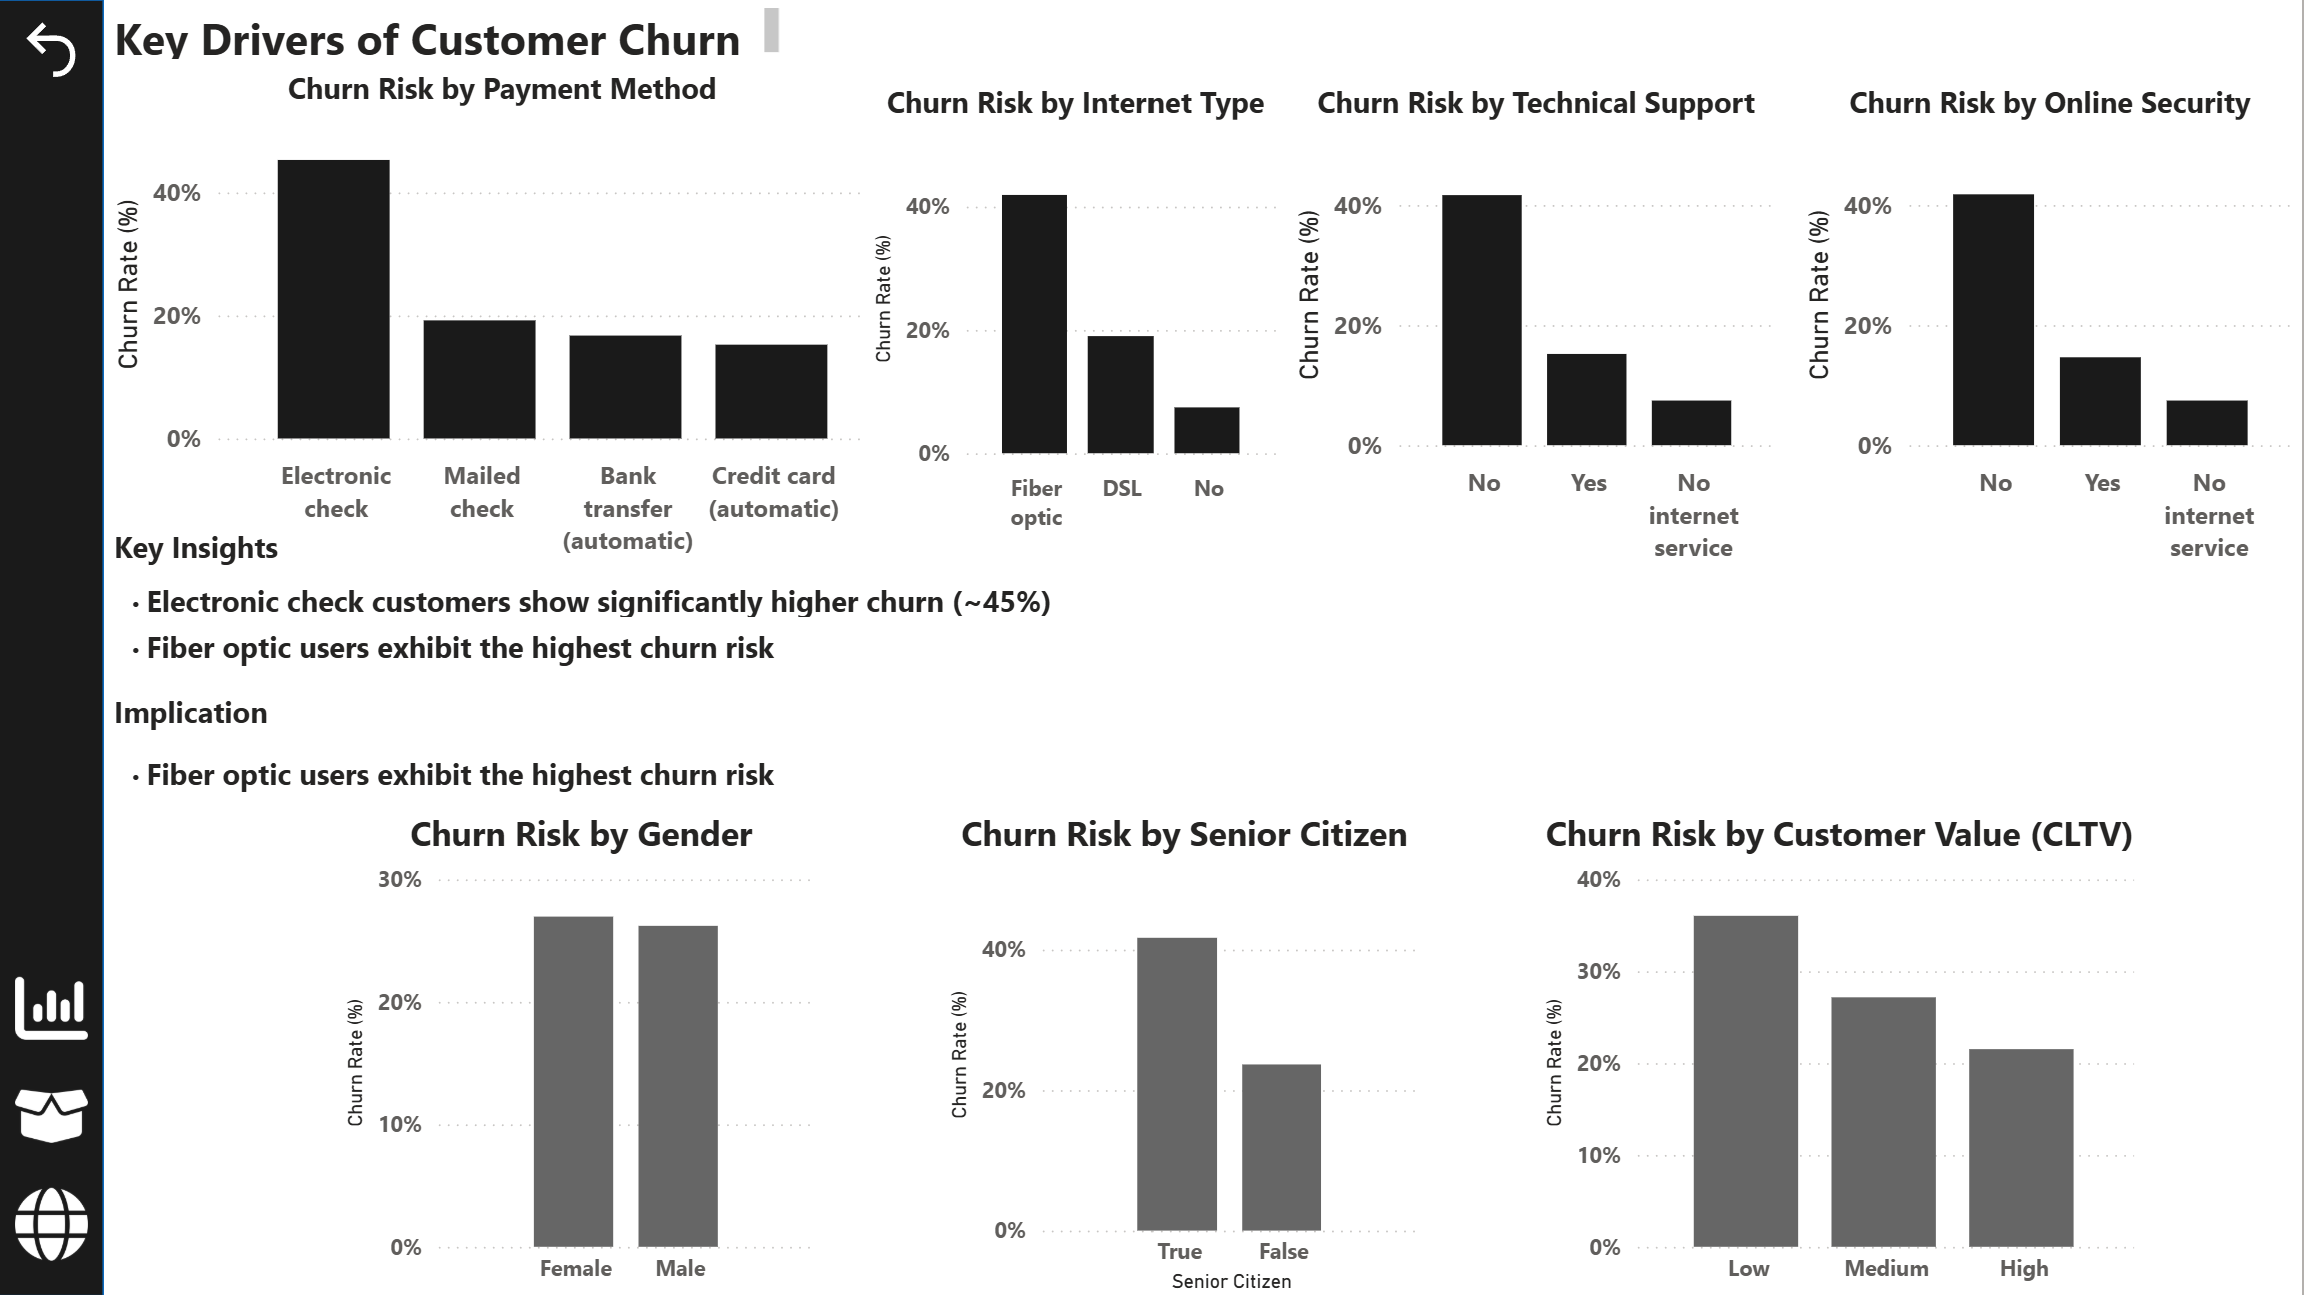

Layout of this report page (visuals, bound fields, positions):
{"tool":"powerbi","page":{"name":"Churn drivers","canvas":[1280,720],"ordinal":1},"visuals":[{"type":"shape","box":[0,0,60.6,719.8],"z":0},{"type":"clusteredColumnChart","title":"Churn Risk by Payment Method","fields":{"Category":["churn_project services.payment_method"],"Y":["Measure Table.Churn Rate"]},"box":[60.7,37.8,441.1,279.2],"z":1000},{"type":"clusteredColumnChart","title":"Churn Risk by Internet Type","fields":{"Category":["churn_project services.internet_service"],"Y":["Measure Table.Churn Rate"]},"box":[482.9,45.9,233.3,257.6],"z":2000},{"type":"clusteredColumnChart","title":"Churn Risk by Online Security","fields":{"Category":["churn_project services.online_security"],"Y":["Measure Table.Churn Rate"]},"box":[999.5,45.9,281.9,275.2],"z":3000},{"type":"actionButton","box":[10.8,8.1,49.9,40.5],"z":4000},{"type":"clusteredColumnChart","title":"Churn Risk by Gender","fields":{"Category":["churn_project customers.gender"],"Y":["Measure Table.Churn Rate"]},"box":[190.2,449.1,271.1,272.5],"z":5000},{"type":"clusteredColumnChart","title":"Churn Risk by Senior Citizen","fields":{"Category":["churn_project customers.senior_citizen"],"Y":["Measure Table.Churn Rate"]},"box":[524.7,449.1,269.8,272.5],"z":6000},{"type":"clusteredColumnChart","title":"Churn Risk by Customer Value (CLTV)","fields":{"Category":["churn_project churn.CLTV Bucket"],"Y":["Measure Table.Churn Rate"]},"box":[855.1,449.1,337.2,272.5],"z":7000},{"type":"textbox","box":[60.7,0,379,37.8],"z":8000},{"type":"clusteredColumnChart","title":"Churn Risk by Technical Support","fields":{"Category":["churn_project services.tech_support"],"Y":["Measure Table.Churn Rate"]},"box":[716.2,45.9,277.9,275.2],"z":9000},{"type":"textbox","box":[60.7,317,620.4,35.1],"z":10000},{"type":"textbox","box":[60.7,342.6,422.2,36.4],"z":11000},{"type":"textbox","box":[60.7,287.3,118.7,33.7],"z":12000},{"type":"textbox","box":[60.7,379,118.7,33.7],"z":13000},{"type":"textbox","box":[60.7,412.7,422.2,37.8],"z":14000},{"type":"image","box":[11.3,536.3,40.5,47],"z":15000},{"type":"image","box":[11.3,657.8,40.5,42.1],"z":16000},{"type":"image","box":[11.3,597.9,40.5,42.1],"z":17000}]}

Visuals, with their boxes on the page's 1280x720 design canvas (x1, y1, x2, y2). These are canvas units, not pixel positions in the 2306x1295 screenshot, which may show the page scaled, cropped or inside an application window:
shape: box(0, 0, 61, 720)
"Churn Risk by Payment Method" clusteredColumnChart: box(61, 38, 502, 317)
"Churn Risk by Internet Type" clusteredColumnChart: box(483, 46, 716, 304)
"Churn Risk by Online Security" clusteredColumnChart: box(1000, 46, 1281, 321)
actionButton: box(11, 8, 61, 49)
"Churn Risk by Gender" clusteredColumnChart: box(190, 449, 461, 722)
"Churn Risk by Senior Citizen" clusteredColumnChart: box(525, 449, 794, 722)
"Churn Risk by Customer Value (CLTV)" clusteredColumnChart: box(855, 449, 1192, 722)
textbox: box(61, 0, 440, 38)
"Churn Risk by Technical Support" clusteredColumnChart: box(716, 46, 994, 321)
textbox: box(61, 317, 681, 352)
textbox: box(61, 343, 483, 379)
textbox: box(61, 287, 179, 321)
textbox: box(61, 379, 179, 413)
textbox: box(61, 413, 483, 450)
image: box(11, 536, 52, 583)
image: box(11, 658, 52, 700)
image: box(11, 598, 52, 640)
